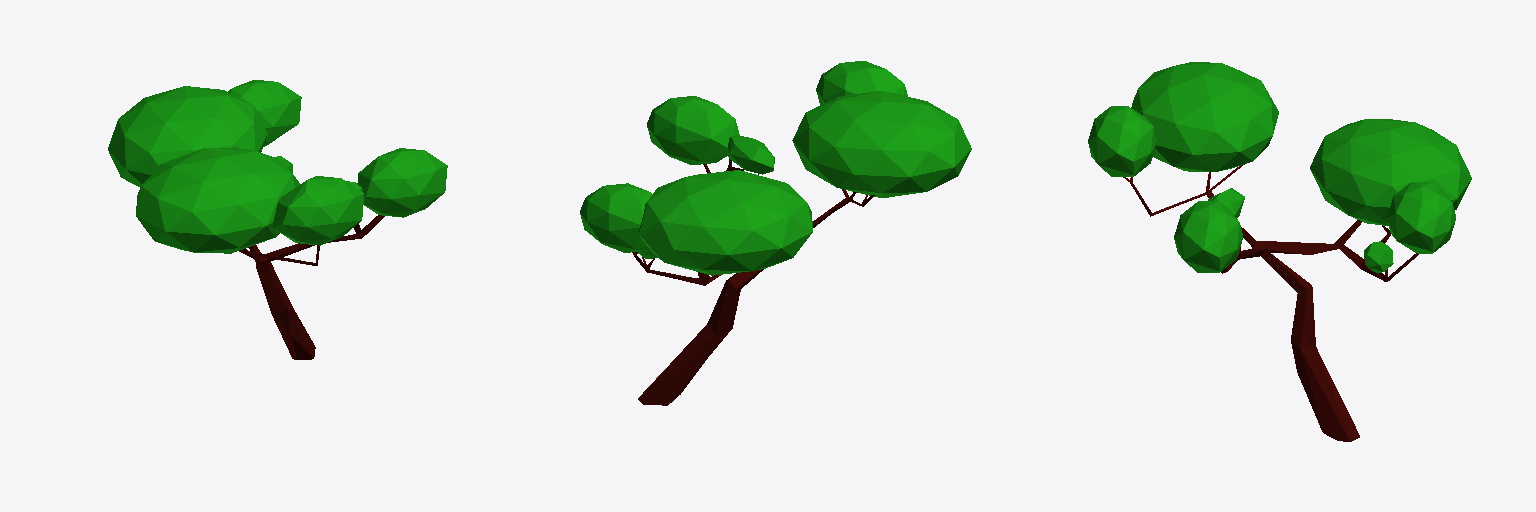
Rendered from mytree2.obj.
The picture shows the model from 3 angles: view 1: azimuth 30°, elevation 25°; view 2: azimuth 150°, elevation 25°; view 3: azimuth 270°, elevation 25°; orthographic projection.
Visible parts, largest first — view 1: Icosphere.007; view 2: Icosphere.007; view 3: Icosphere.007.
Part boxes in pixels (x1,y1,x2,y2): Icosphere.007: (108, 80, 447, 359); Icosphere.007: (580, 61, 971, 405); Icosphere.007: (1088, 62, 1471, 441).
Size of the model in its own units: 10.19 by 9.19 by 11.05.